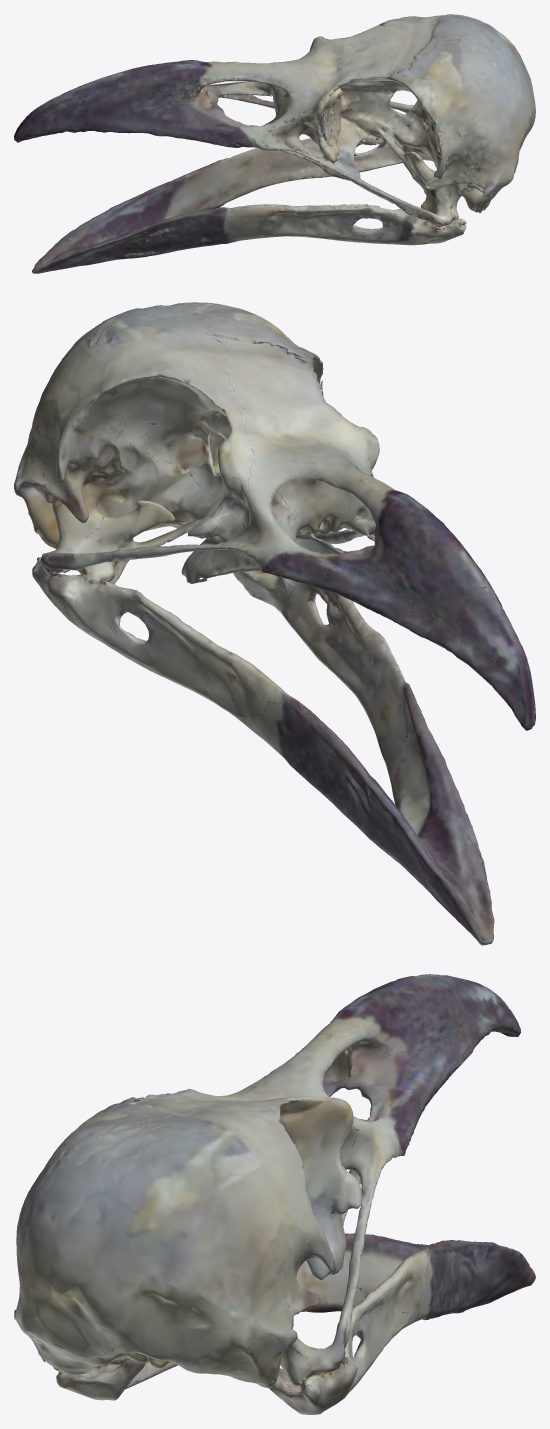
File: cuervo.glb
3 renders of one model, top to bottom at view 1: azimuth 30°, elevation 25°; view 2: azimuth 150°, elevation 25°; view 3: azimuth 270°, elevation 25°, orthographic. The views are drawn at different scales.
Parts seen in each view (by area): view 1: Object_2; view 2: Object_2; view 3: Object_2.
Part boxes in pixels (x1,y1,x2,y2): Object_2: (14, 14, 535, 273); Object_2: (14, 302, 535, 945); Object_2: (14, 974, 535, 1414).
Size of the model in its own units: 1.3 by 0.7573 by 0.8818.
Materials: 1 (1 with a texture image).
